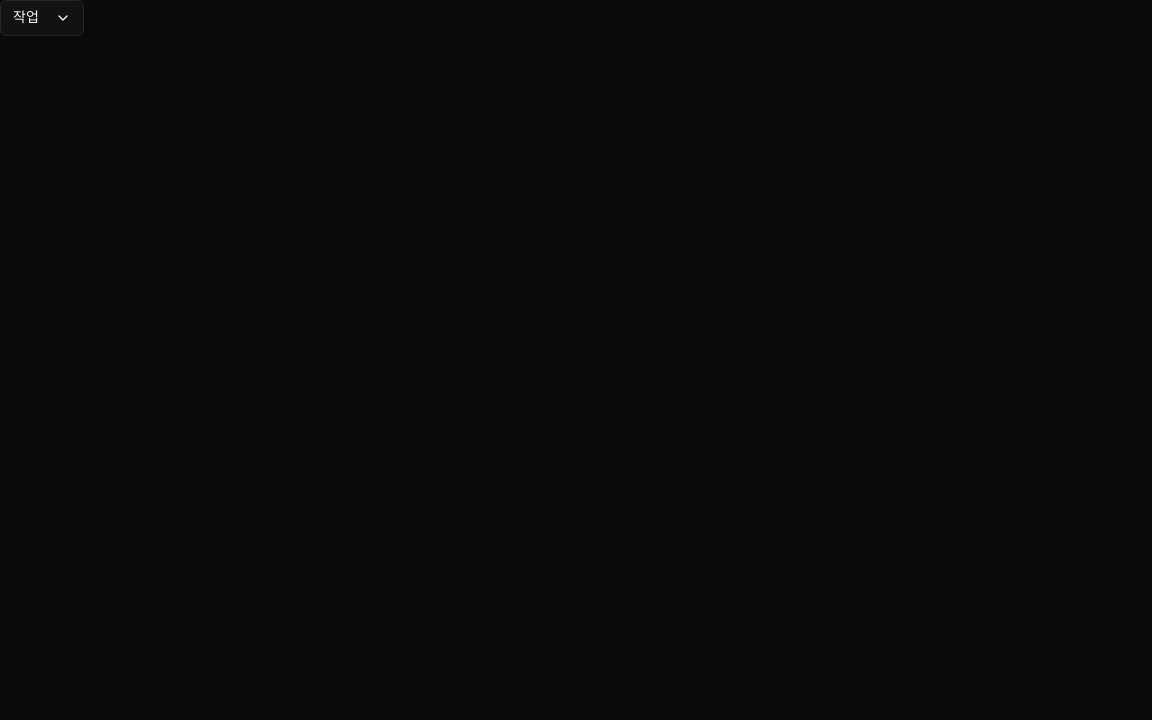
Test: ReportsActionsDropdown — status별 menuitem disabled › clicking enabled '기각' on PENDING → opens dialog
This screenshot has width=1152, height=720.
Click the button "작업" at point(42, 18), box [0,0,84,36]
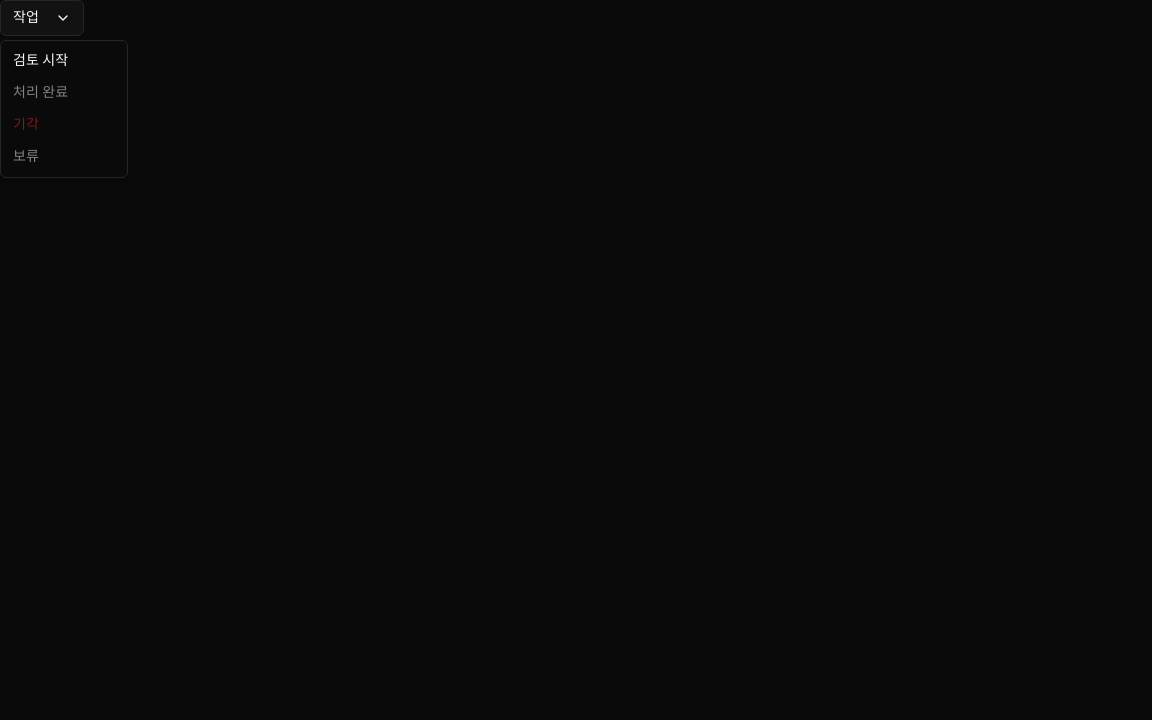
Click the menu item "기각" at point(26, 124), box [13,117,39,132]
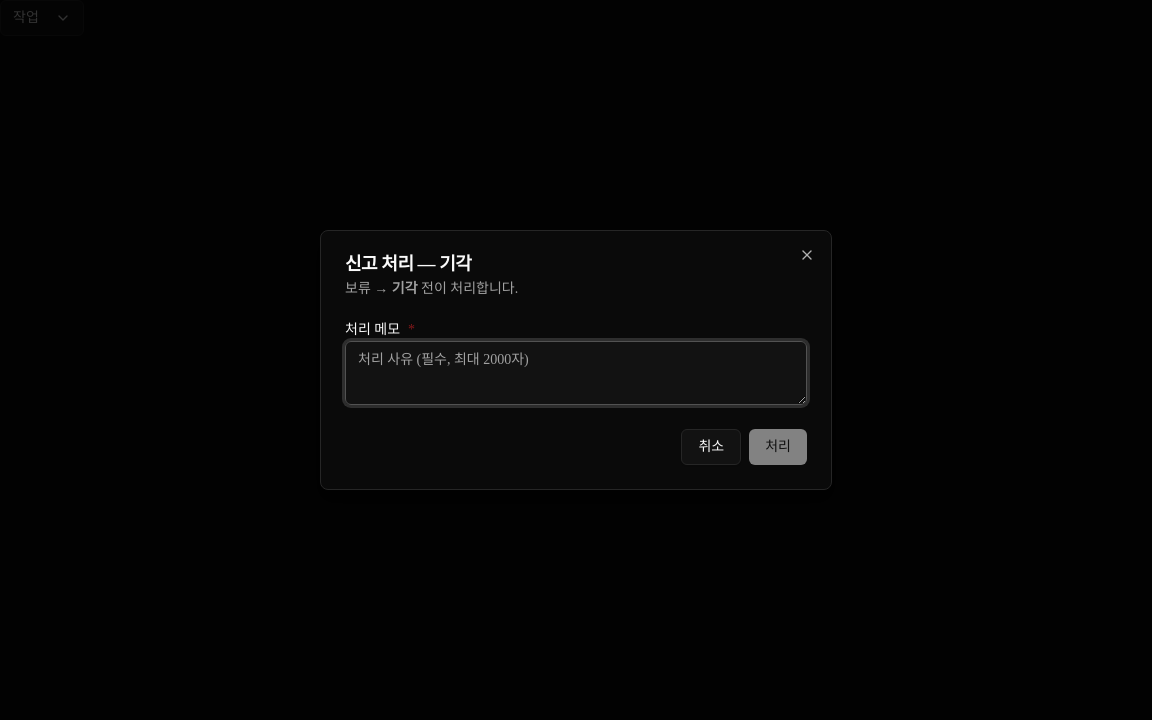
Result: the heading "신고 처리 — 기각" is shown at [345,254,471,274]
